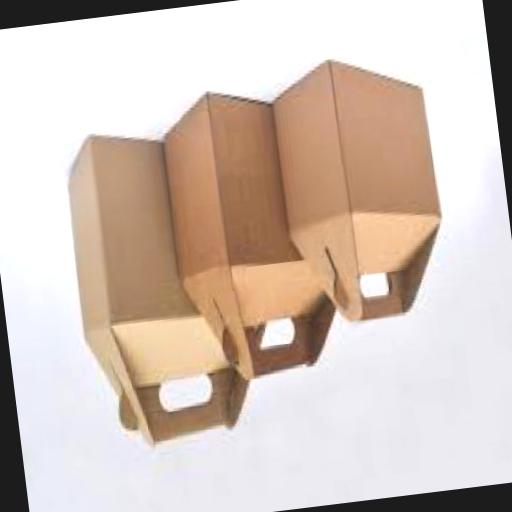cardboard: (62, 116, 282, 454), (158, 79, 347, 390), (268, 48, 454, 334)
